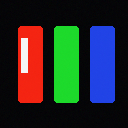4 line_v: (21, 38, 27, 72)
